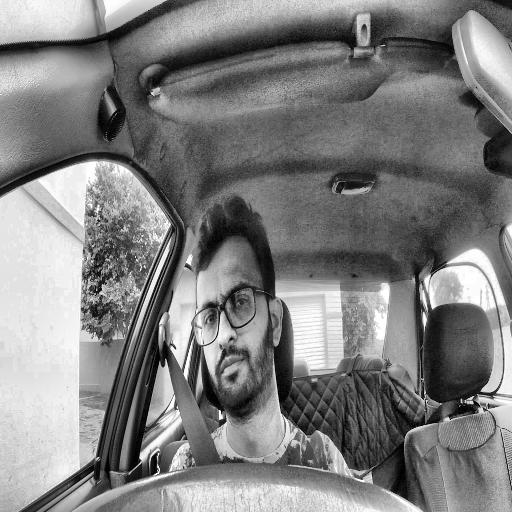awake: (190, 196, 284, 422)
